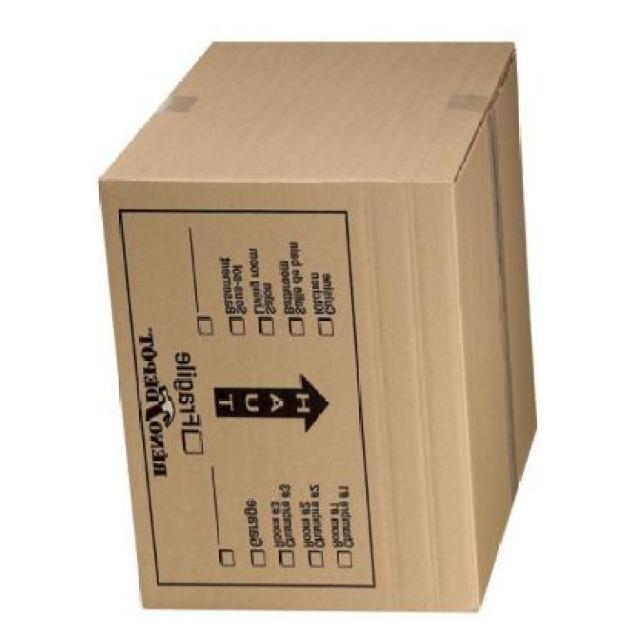cardboxes: (98, 43, 540, 612)
